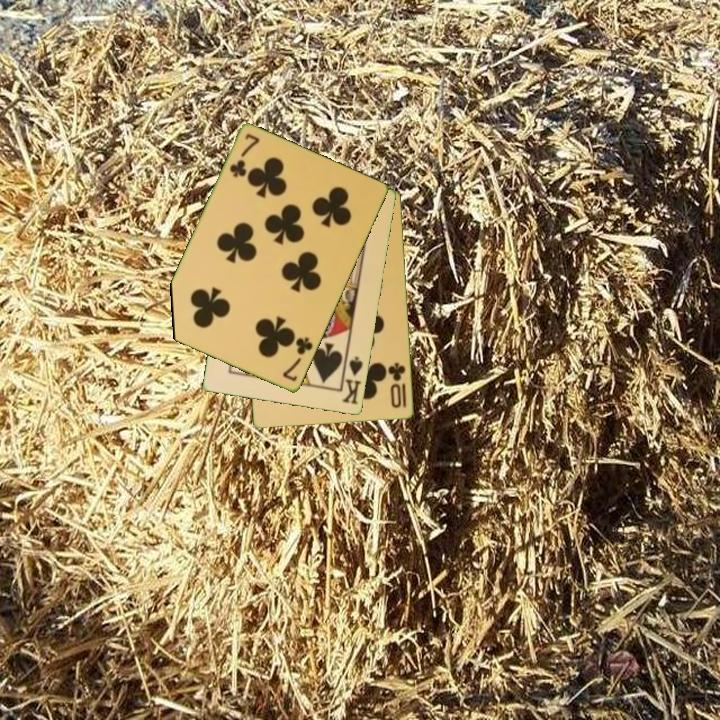10c: (385, 359, 409, 411)
7c: (279, 334, 316, 385), (226, 130, 263, 181)
Ks: (338, 350, 366, 407)
